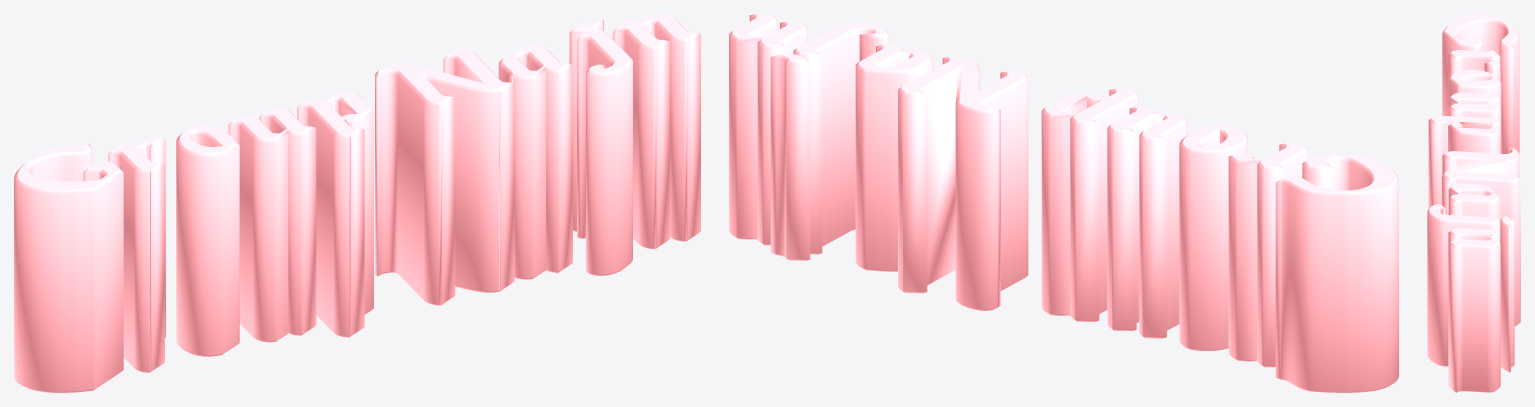
File: Group Najn Thick.fbx
The picture shows the model from 3 angles, left to right: view 1: azimuth 30°, elevation 25°; view 2: azimuth 150°, elevation 25°; view 3: azimuth 270°, elevation 25°; orthographic projection. The views are drawn at different scales.
Parts seen in each view (by area): view 1: Group Najn; view 2: Group Najn; view 3: Group Najn.
Boxes of the visible parts, x1,y1,x2,y2 form: Group Najn: [14, 14, 700, 392]; Group Najn: [729, 14, 1398, 392]; Group Najn: [1427, 14, 1520, 392].
Size of the model in its own units: 810 by 236 by 136.
